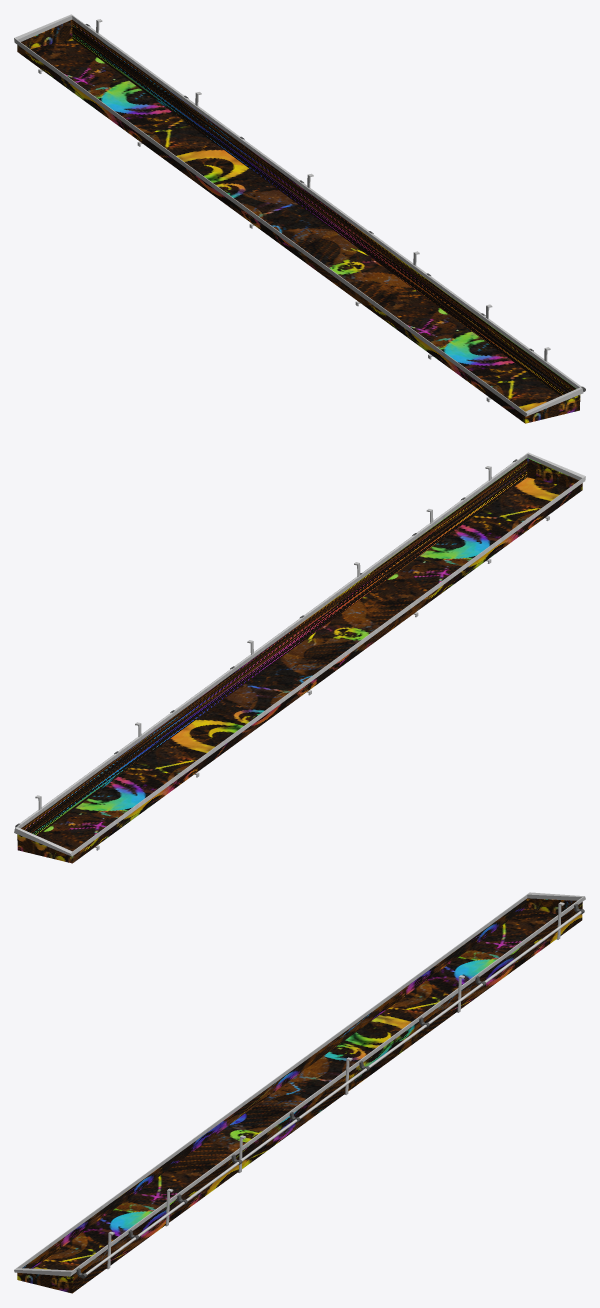
The model's file is lockage box.glb.
The picture shows the model from 3 angles, top to bottom: view 1: azimuth 30°, elevation 25°; view 2: azimuth 150°, elevation 25°; view 3: azimuth 330°, elevation 25°; orthographic projection.
Parts seen in each view (by area): view 1: luggage box, holder frame; view 2: luggage box, holder frame; view 3: luggage box, holder frame, clamps.
Part boxes in pixels (x1,y1,x2,y2): luggage box: (17,19,580,423); holder frame: (14,14,583,416); luggage box: (17,458,582,863); holder frame: (14,452,585,856); luggage box: (17,898,582,1293); holder frame: (14,892,585,1276); clamps: (76,904,584,1278).
Bounding box in the file's own units: 0.4545 × 0.2532 × 6.12.
Materials: 3 (3 with a texture image).
